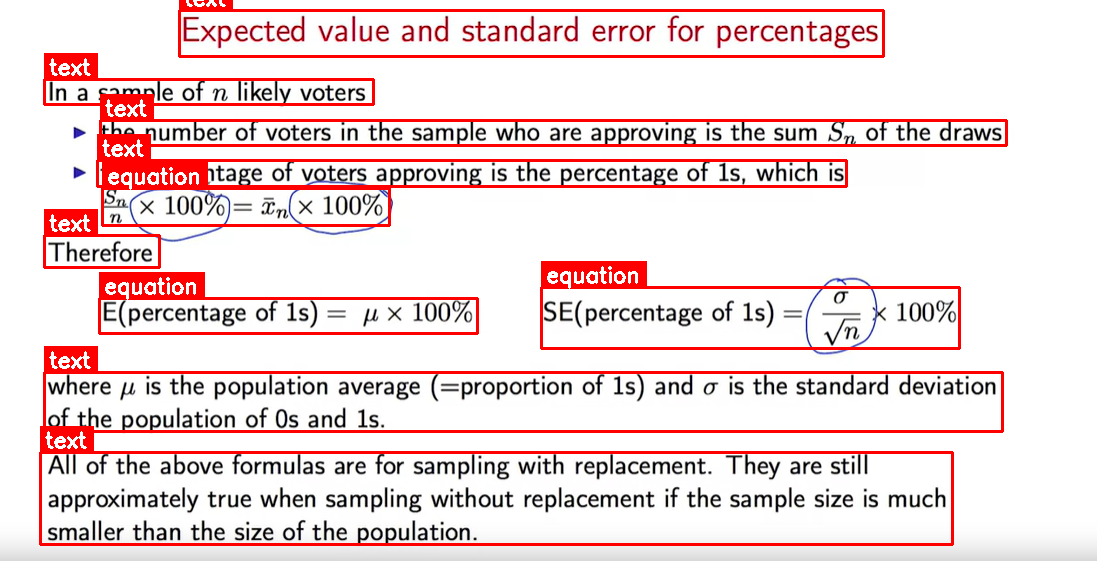equation: (541, 287, 959, 348), (99, 298, 477, 333), (102, 188, 389, 225)
text: (40, 452, 952, 544), (44, 372, 1002, 431), (179, 10, 883, 56), (100, 120, 1006, 145), (97, 160, 846, 186), (44, 79, 373, 104), (44, 235, 159, 267)
